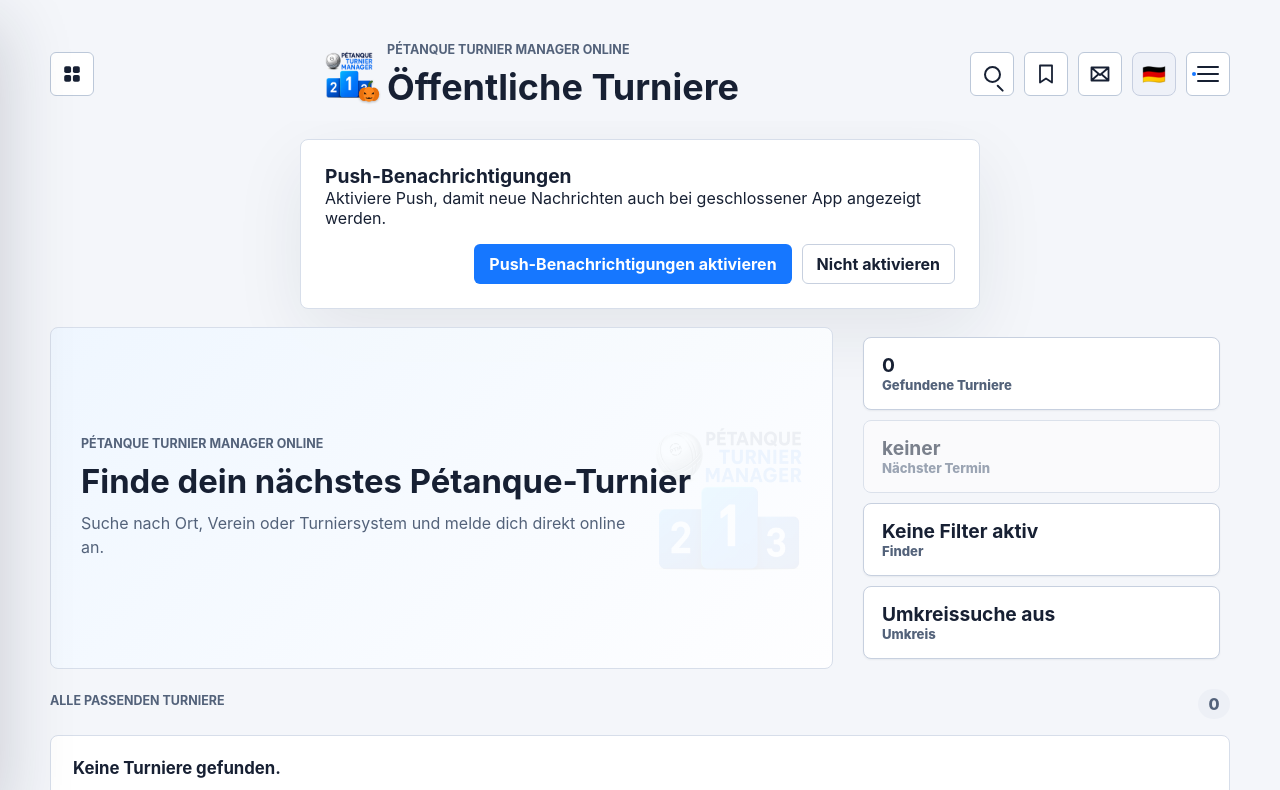
Anmeldungen: automatische Turnierauswahl beim ersten Öffnen › wählt ein verwaltbares Turnier automatisch aus und zeigt dessen Anmeldungen ohne manuelle Nachauswahl
Step 1. Click the button named "Menü öffnen" → (1208, 74), box [1186,52,1230,96]
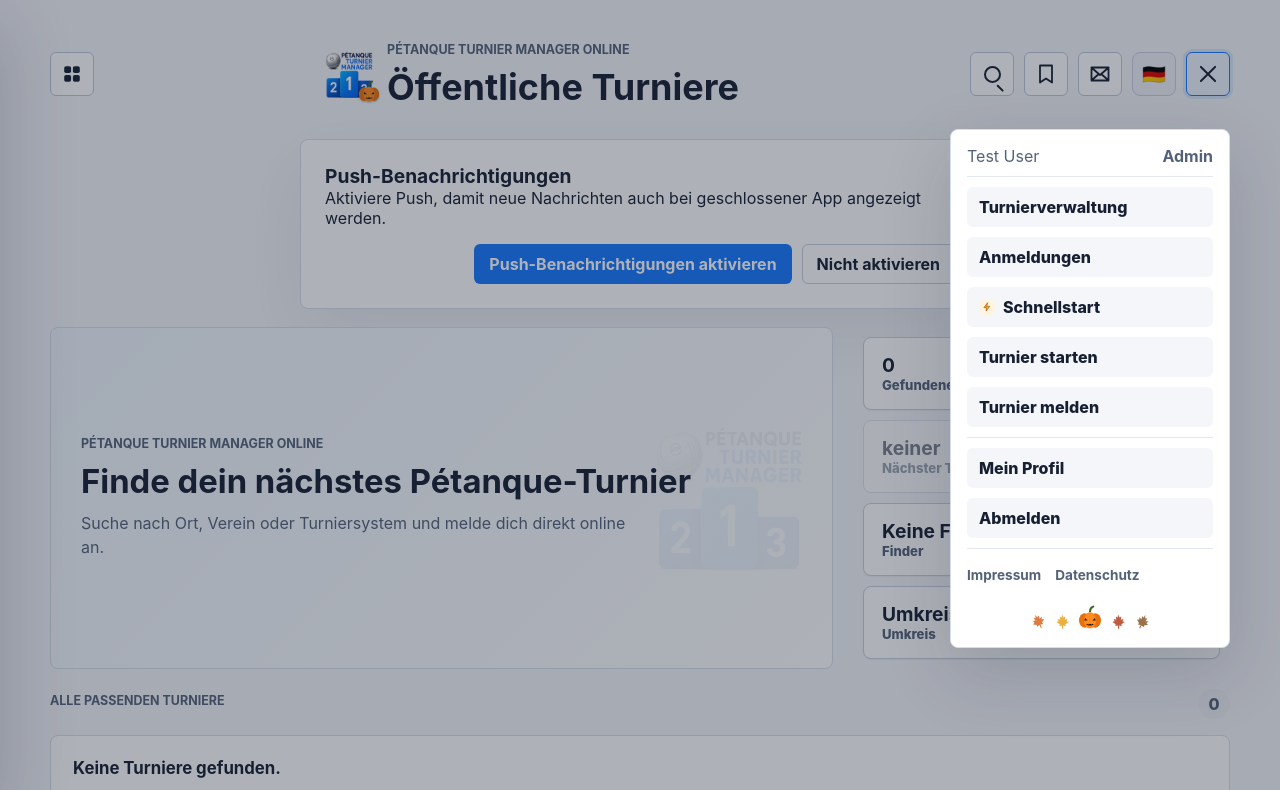
Step 2. Click the button "Anmeldungen" → (1090, 257), box [967,237,1213,277]
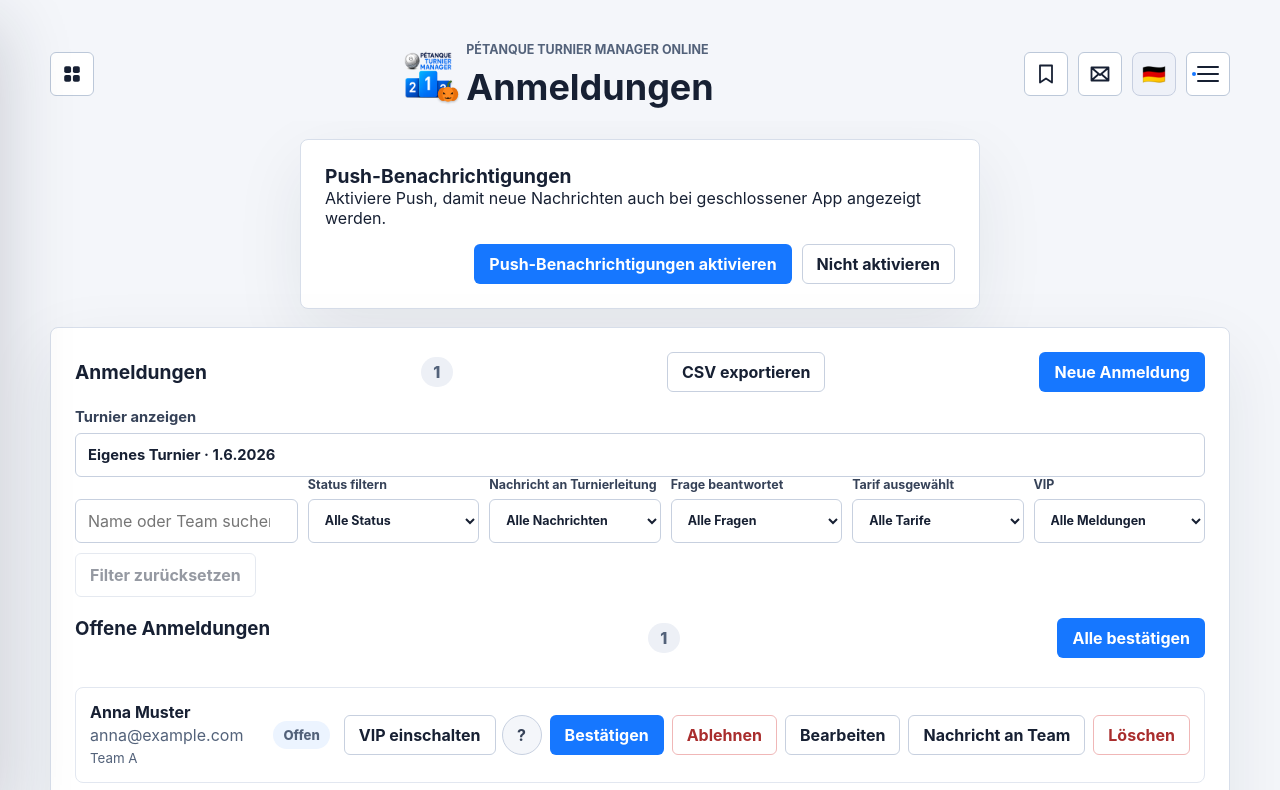
Check: the text "Anna Muster" is shown, box [90,702,190,722]
